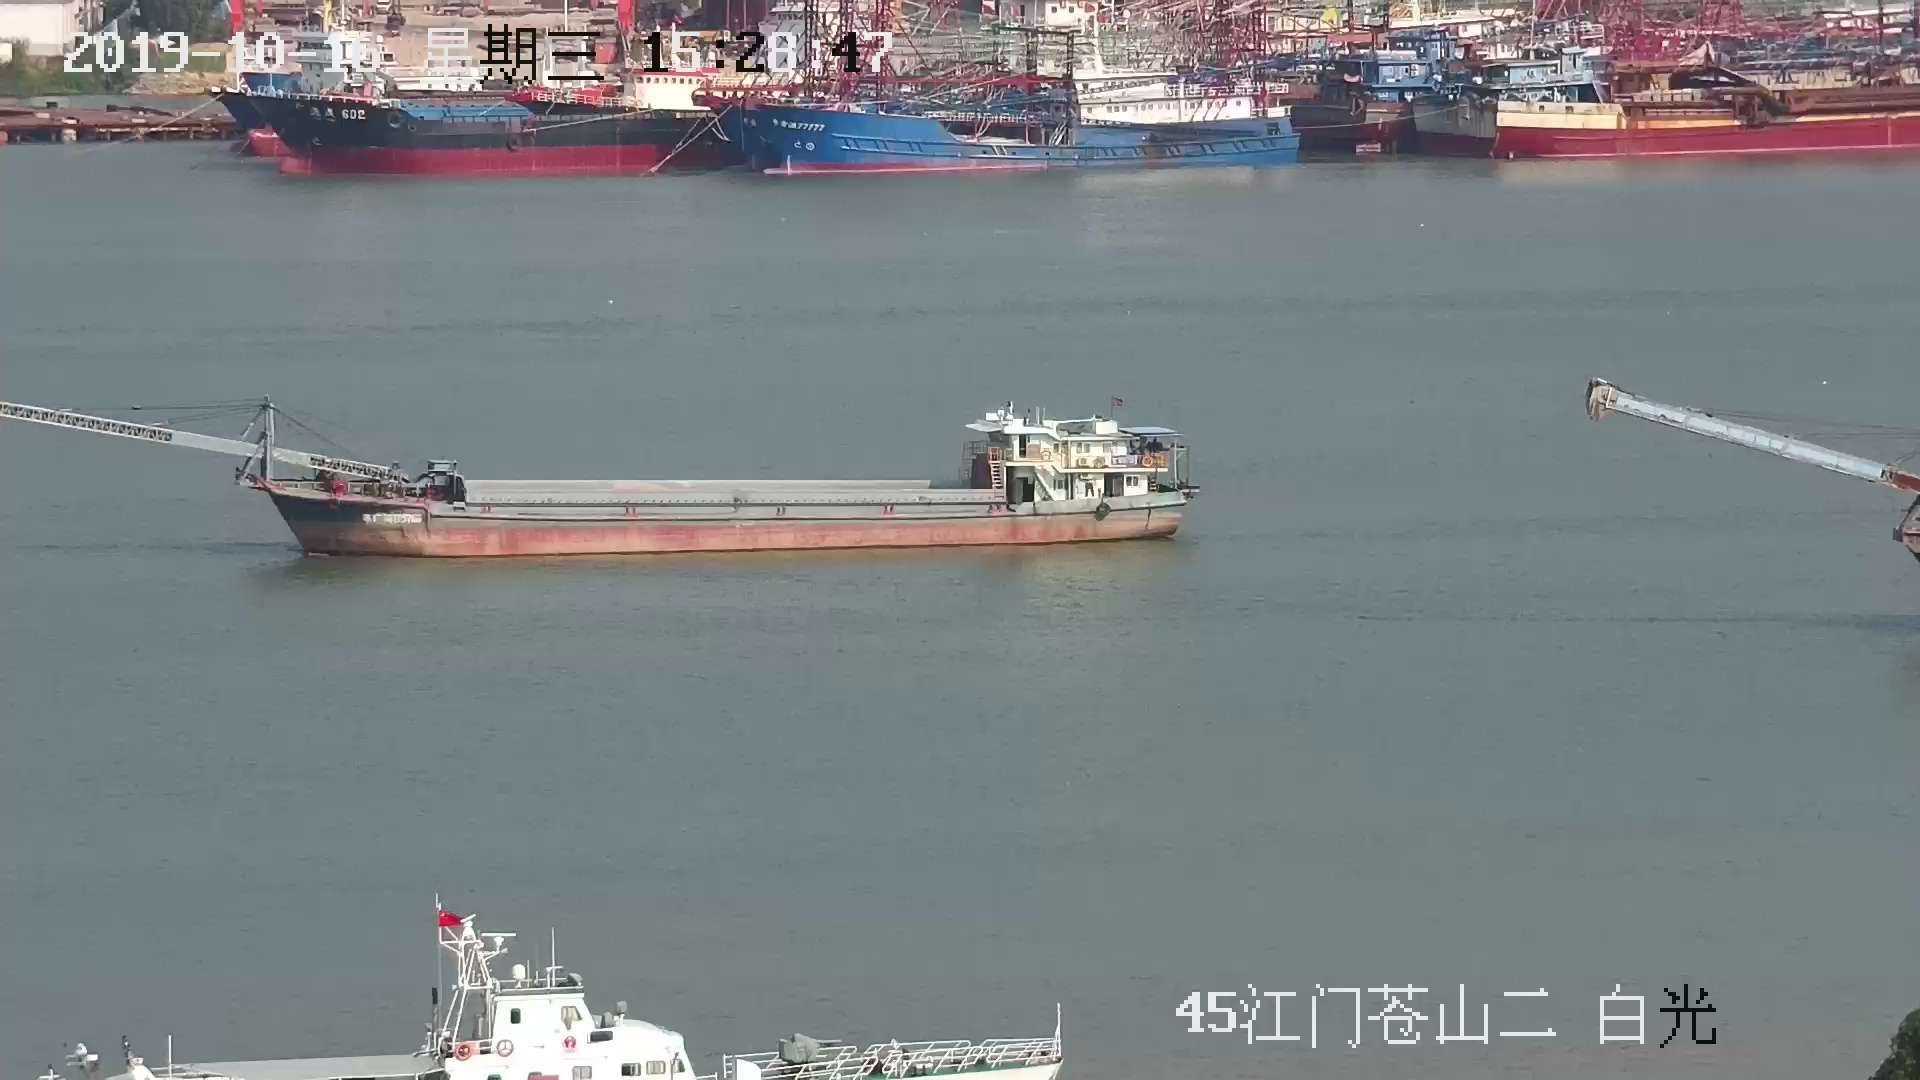ship: (1, 389, 1207, 567)
